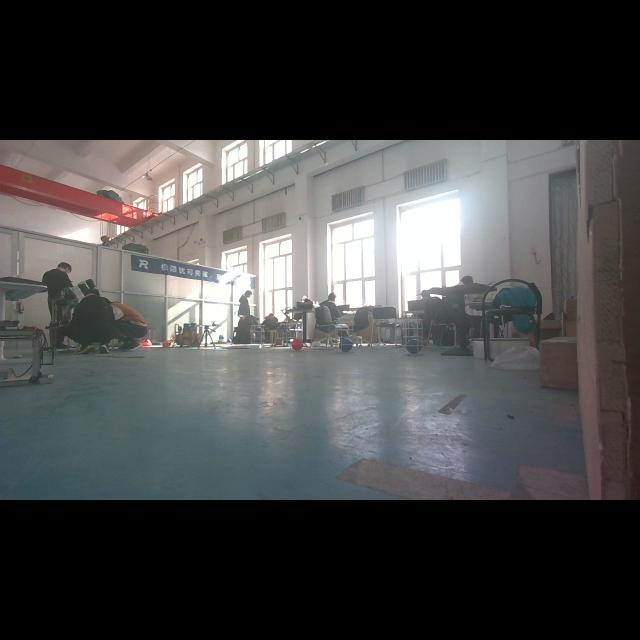B: (405, 339, 423, 353), (338, 340, 354, 352)
R: (291, 339, 303, 349)
S: (398, 318, 428, 357), (332, 318, 356, 354), (286, 321, 306, 352), (248, 323, 266, 351)
